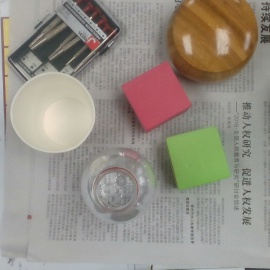bottle: (80, 149, 156, 225)
chess: (170, 1, 259, 82)
cup: (12, 72, 94, 154)
